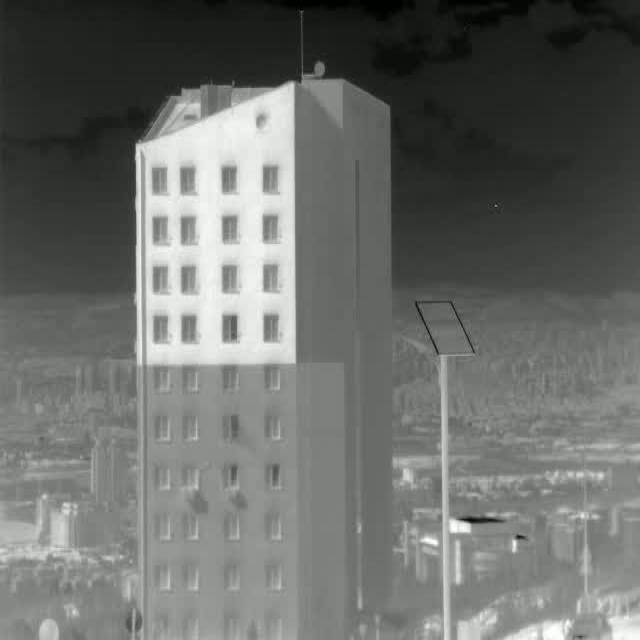Car: (565, 612, 612, 640)
